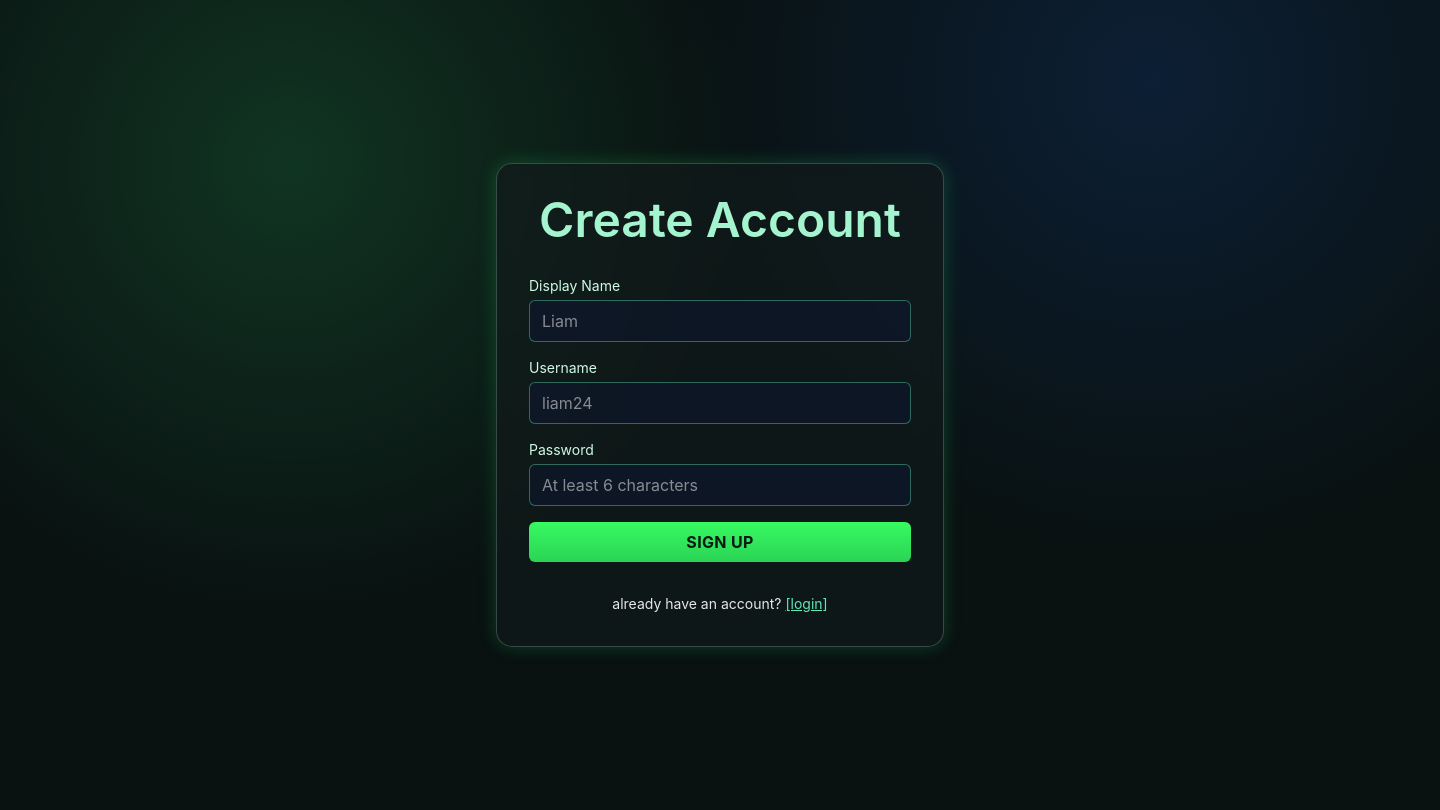
Test: SignupPage - Bug Condition Exploration › should display helpful error when backend is not running (ERR_CONNECTION_REFUSED)
Note: Fill in valid signup data using label selectors
Type "John Doe" into the field labelled "Display Name" at (720, 321), box [529,300,911,342]
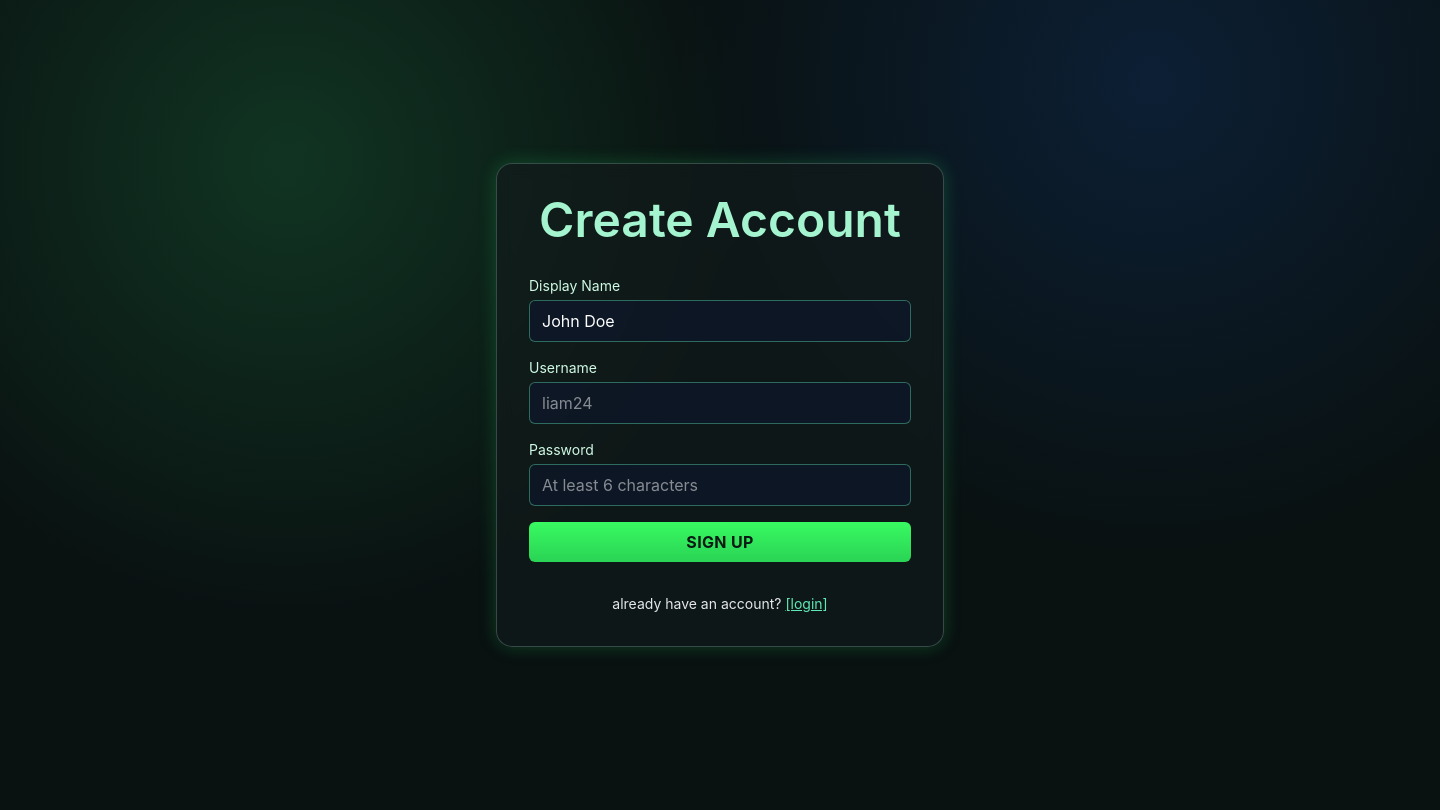
Type "john123" into the field labelled "Username" at (720, 403), box [529,382,911,424]
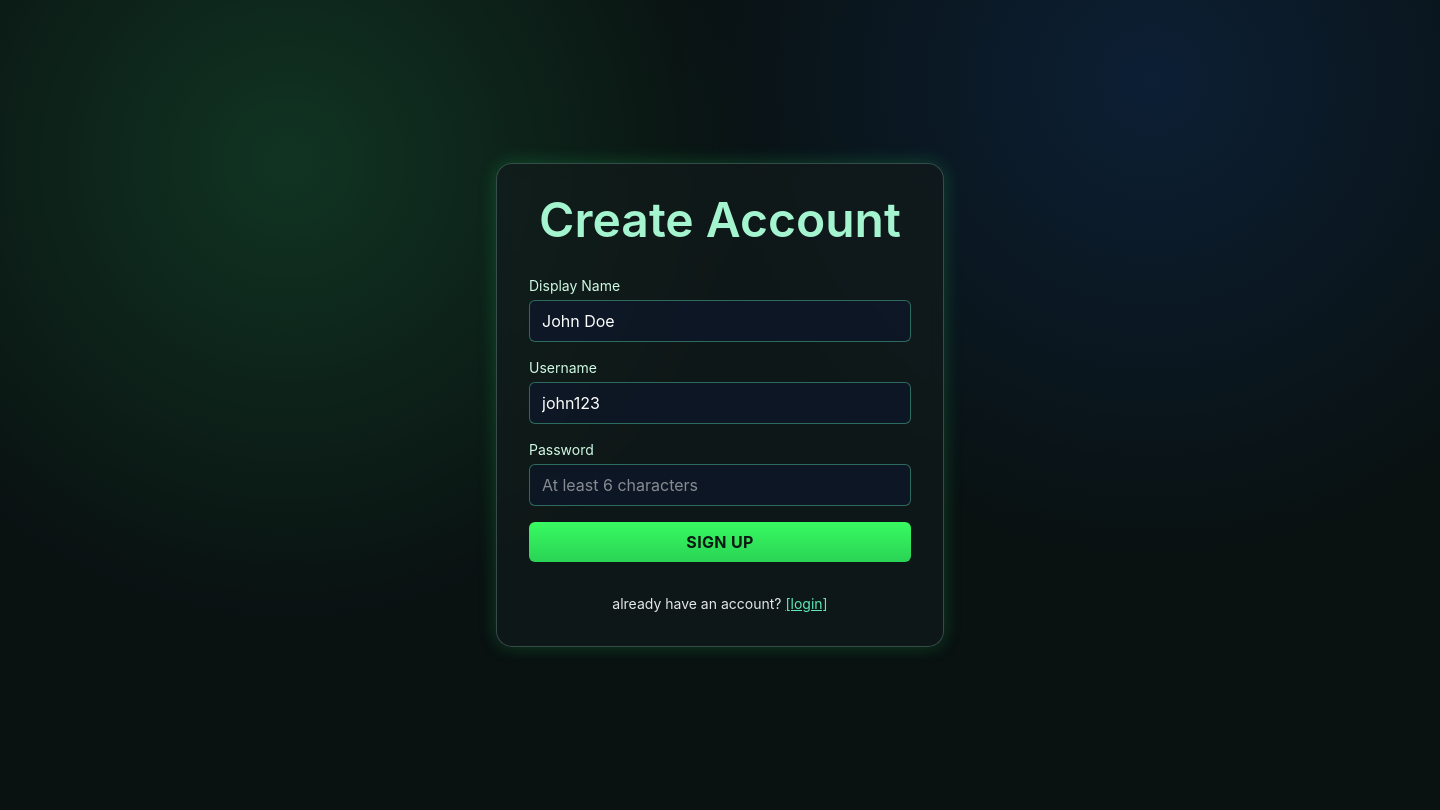
Type "password123" into the password field labelled "Password" at (720, 485), box [529,464,911,506]
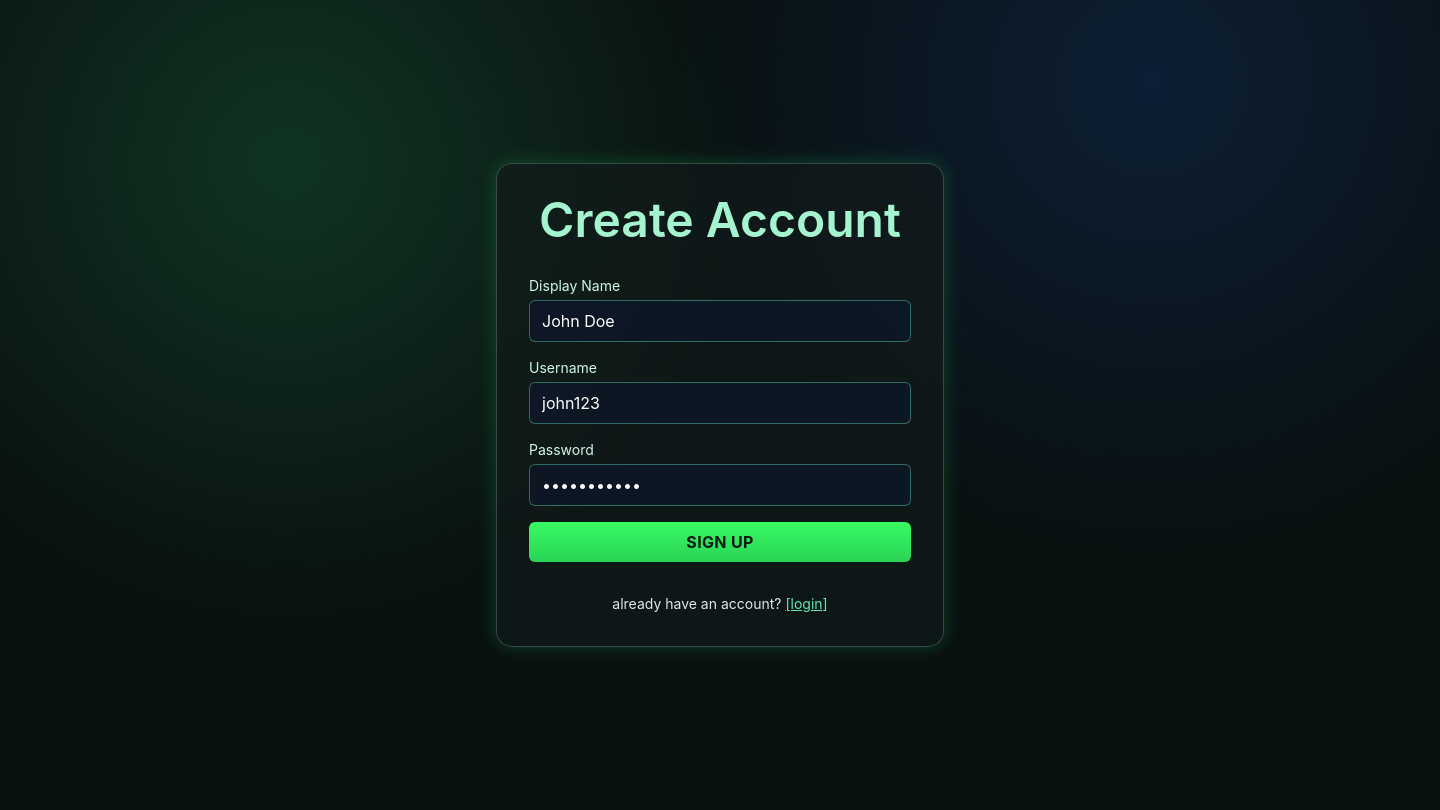
Note: Submit the form
Click the button "SIGN UP" at (720, 542), box [529,522,911,562]
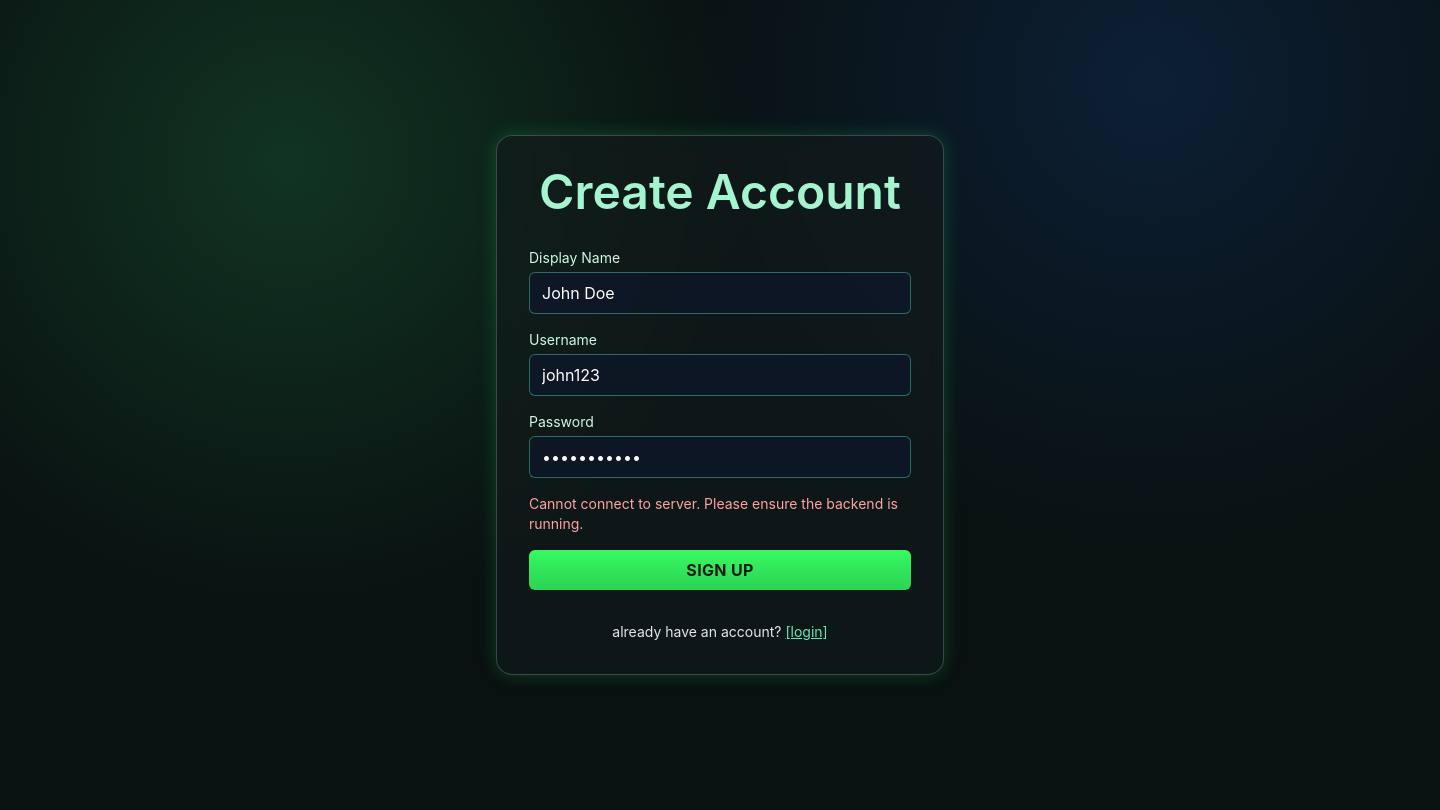
Result: the text "Cannot connect to server" is shown at [529,495,898,532]
